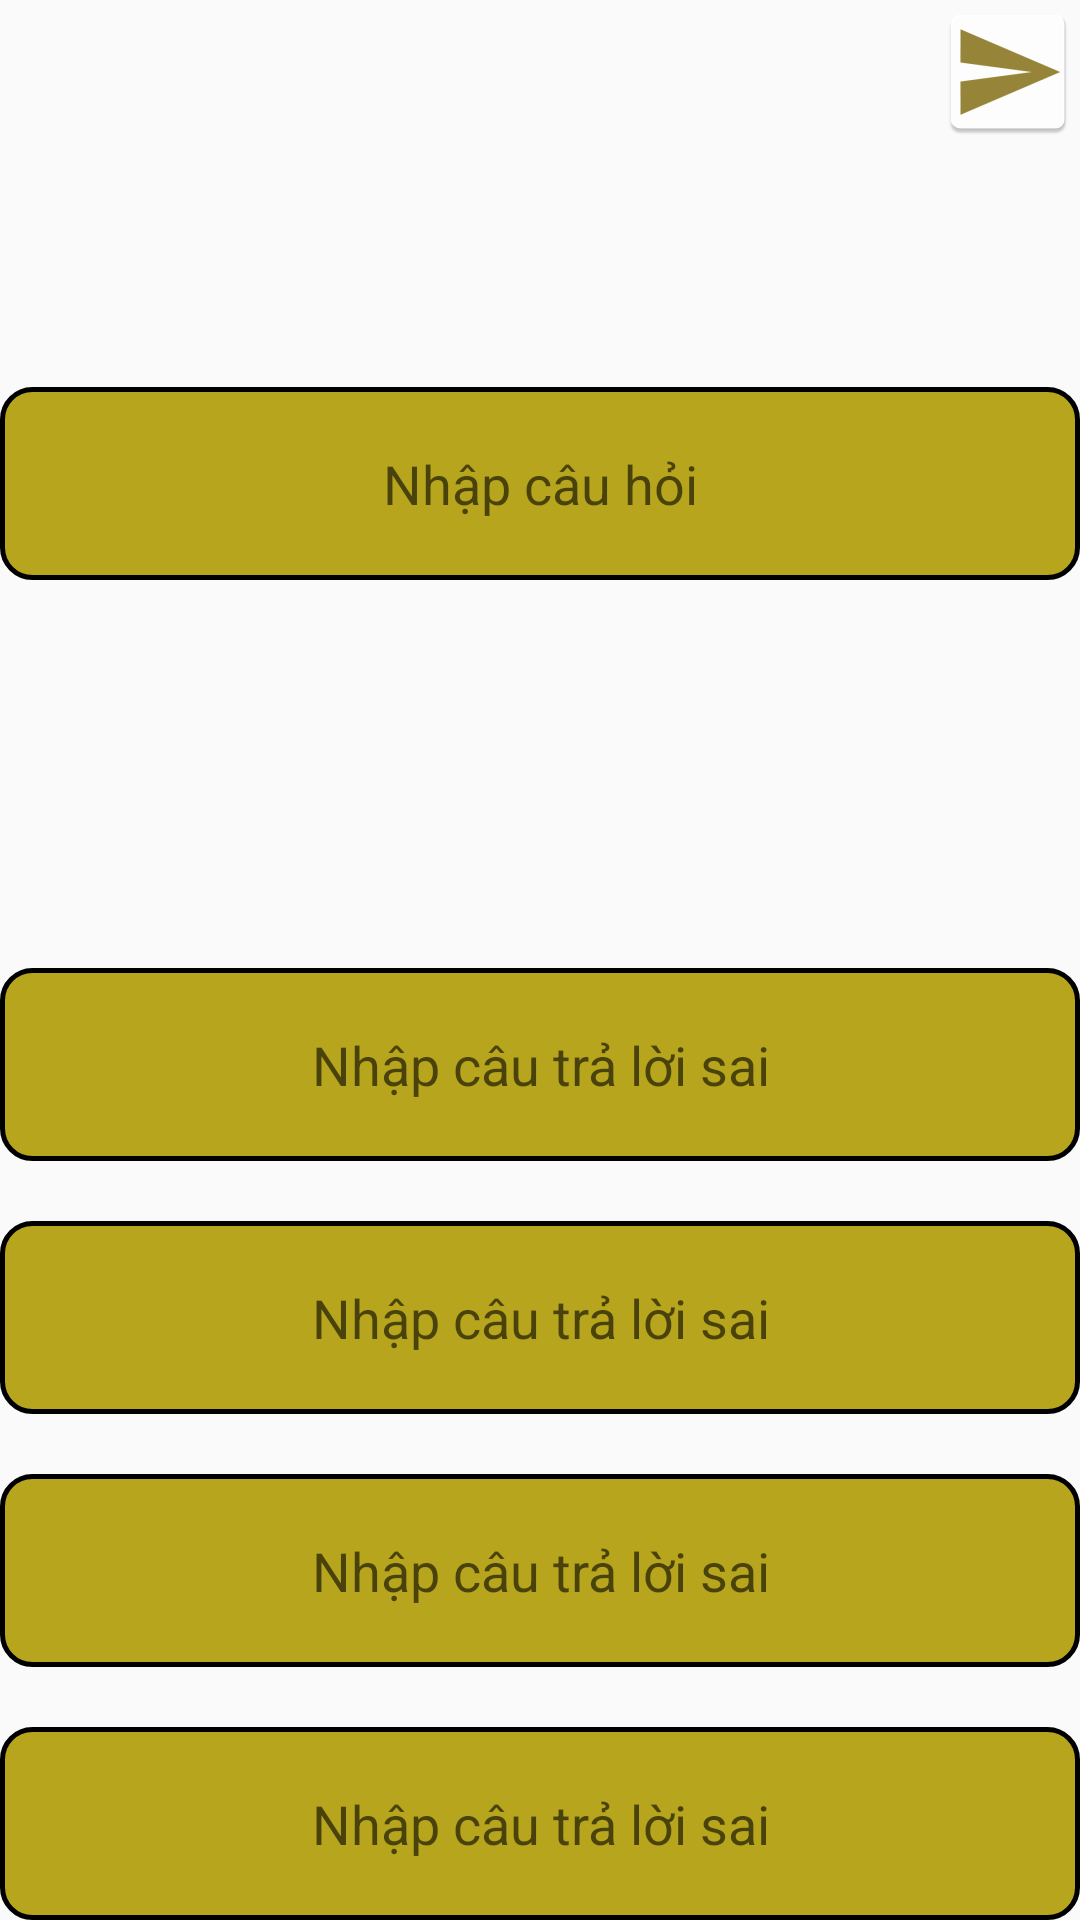

Icon click points for this 1080*1920 phone screenshot, format (x,y):
send: (1008,77)
